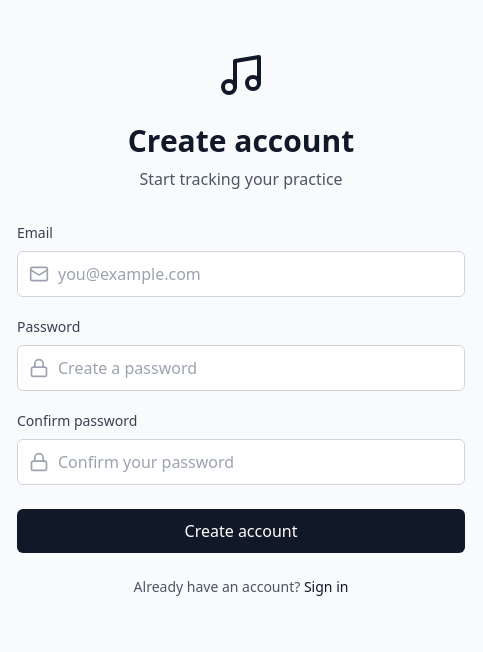
Test: Signup › shows an error when passwords do not match
Type "test@example.com" into the field labelled "Email".
click(241, 274); type("test@example.com")  # box [17, 251, 465, 297]
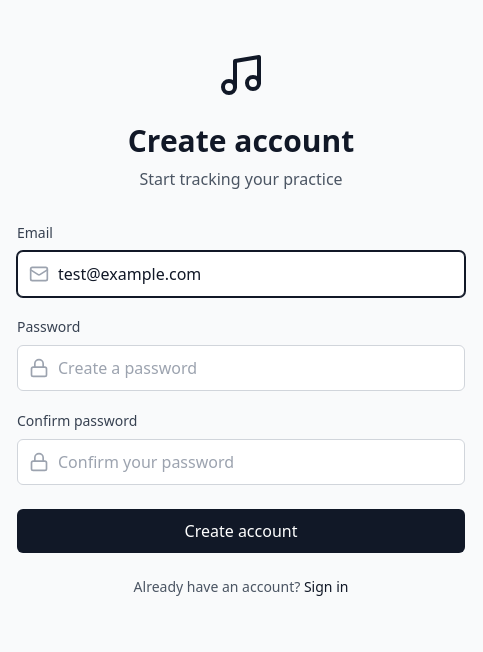
Type "password123" into the password field labelled "Password".
click(241, 368); type("password123")  # box [17, 345, 465, 391]
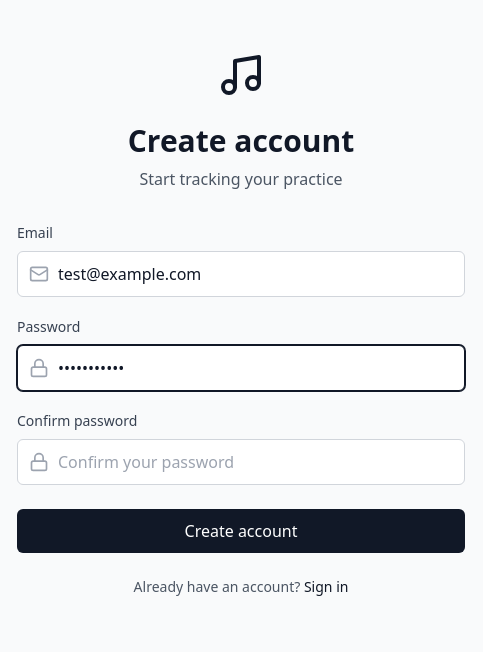
Type "differentpassword" into the password field labelled "Confirm password".
click(241, 462); type("differentpassword")  # box [17, 439, 465, 485]
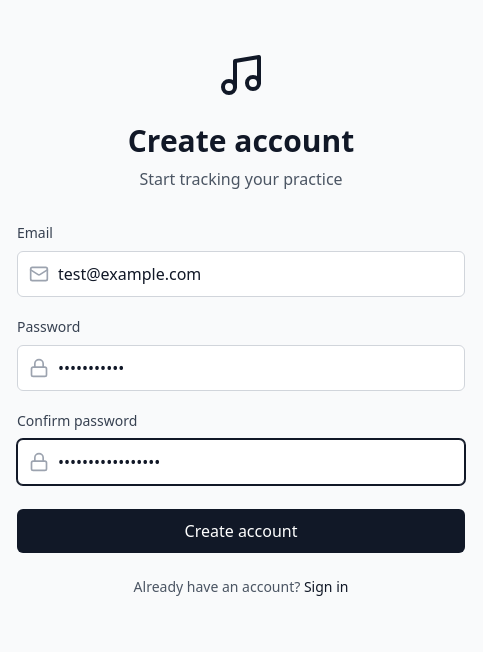
Click the button "Create account".
click(241, 531)  # box [17, 509, 465, 553]
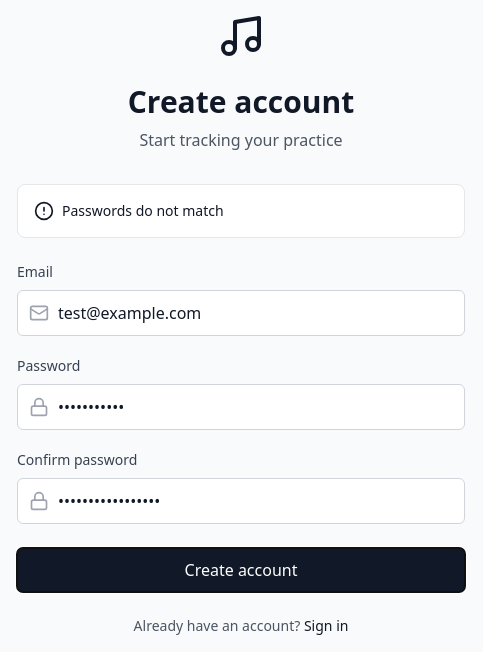
Result: the text "Passwords do not match" is shown at [62, 201, 224, 221]
